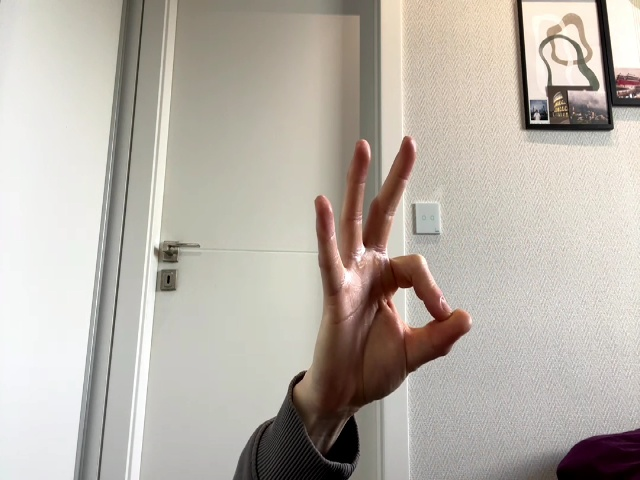O: (315, 136, 473, 403)
